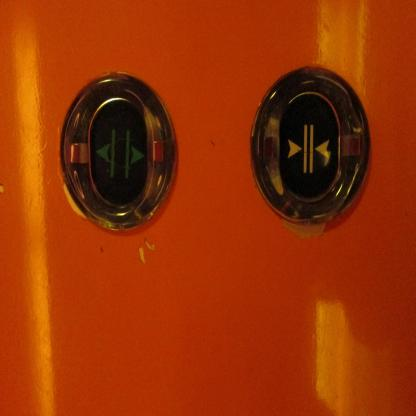close: (249, 65, 370, 231)
open: (58, 72, 176, 233)
